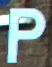Parking: (7, 1, 46, 63)
